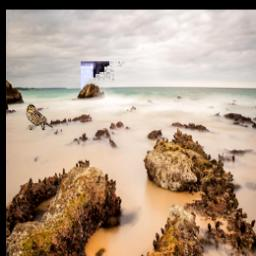Crow: (81, 62, 128, 205)
Sparrow: (26, 105, 53, 131)
